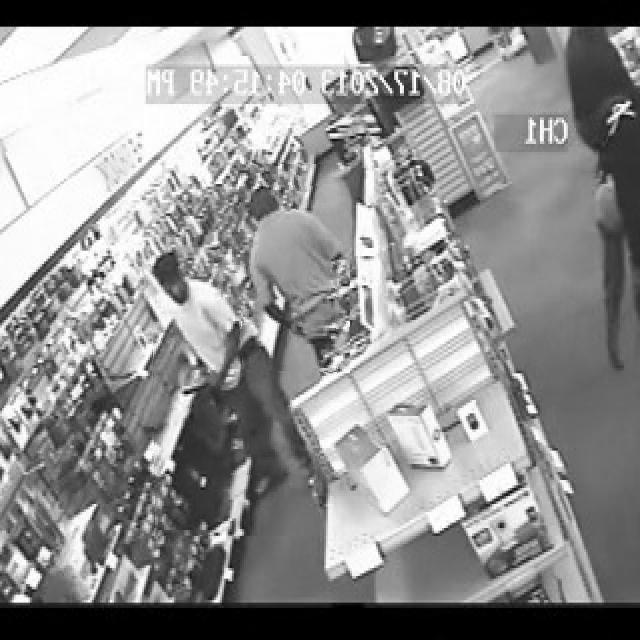Normal: (151, 237, 319, 536), (238, 164, 350, 373)
